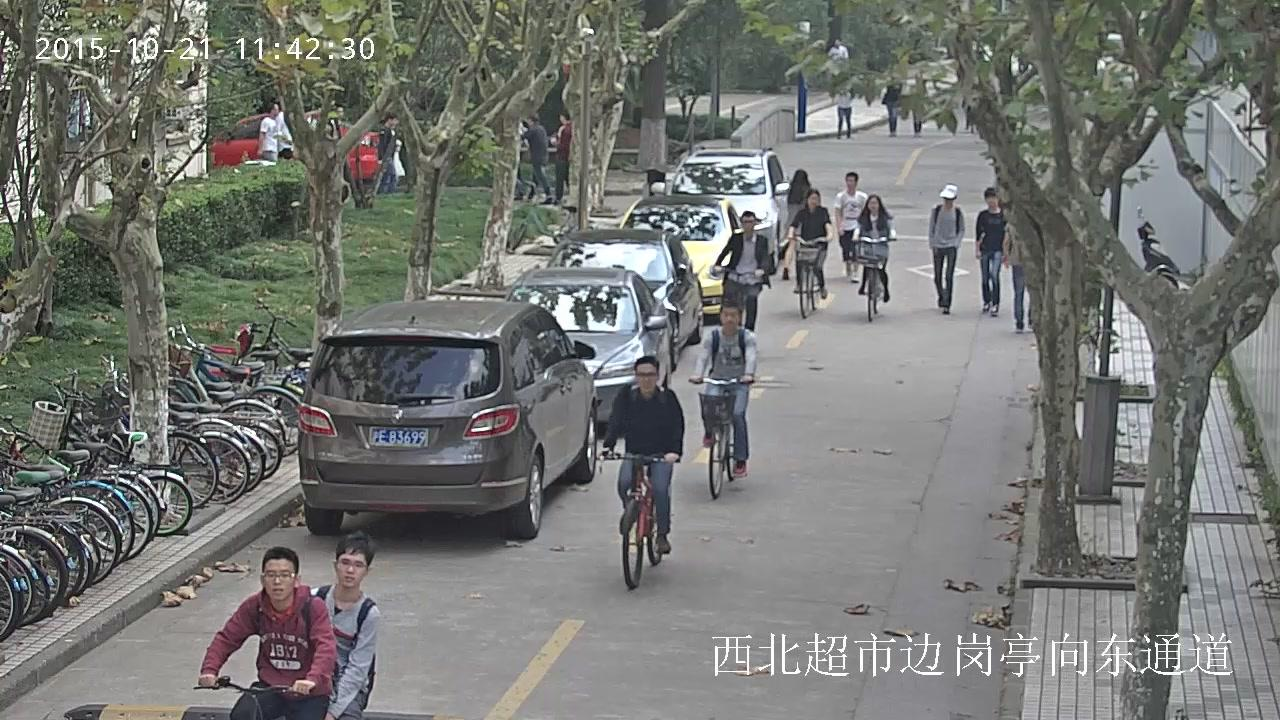face: (264, 558, 294, 601), (336, 548, 366, 587), (635, 363, 655, 391), (721, 307, 737, 330), (742, 215, 753, 231), (868, 198, 878, 211), (808, 193, 817, 207), (846, 176, 854, 186), (272, 104, 278, 115), (987, 196, 994, 204), (944, 198, 953, 203), (390, 117, 396, 124), (337, 107, 343, 114), (559, 115, 564, 122), (527, 118, 532, 125), (330, 99, 335, 106), (834, 39, 838, 44)
